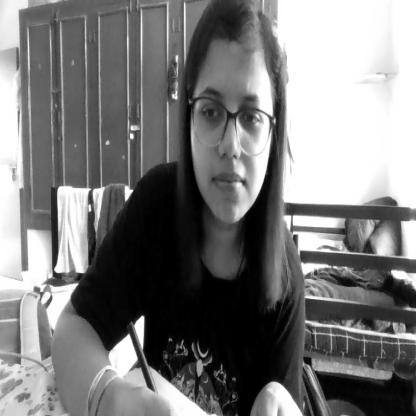Normal: (186, 12, 278, 222)
